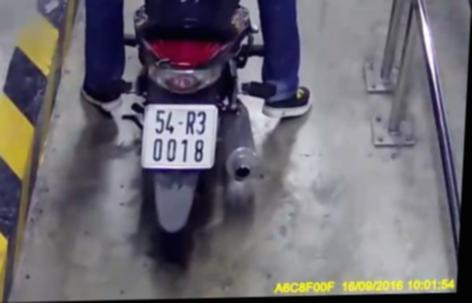License_Plate: (134, 98, 226, 182)
